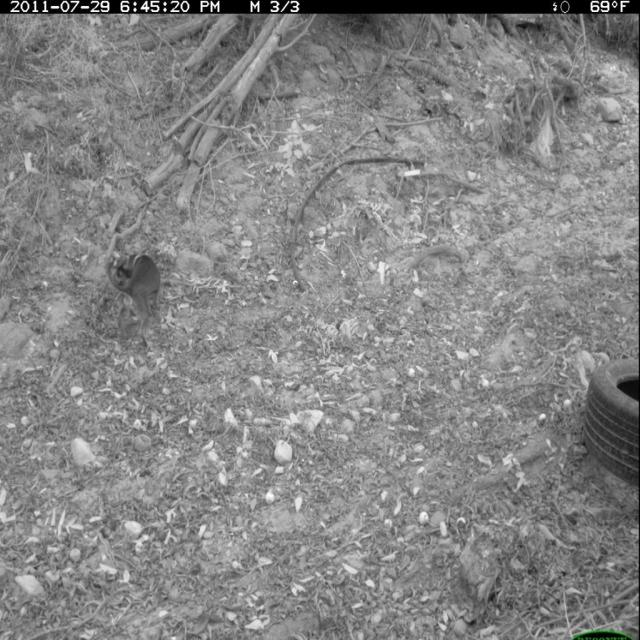dog: (94, 238, 181, 347)
